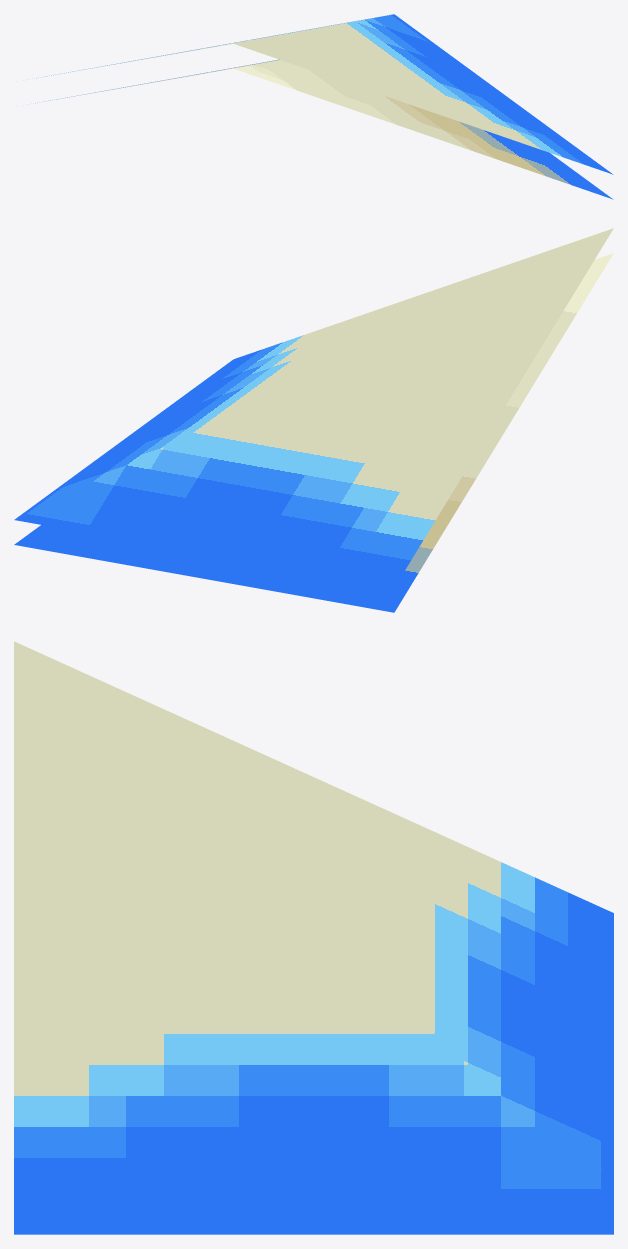
The model's file is rive-sable-native-05.glb.
3 renders of one model, top to bottom at view 1: azimuth 30°, elevation 25°; view 2: azimuth 150°, elevation 25°; view 3: azimuth 270°, elevation 25°, orthographic. The views are drawn at different scales.
Size of the model in its own units: 1 by 0.625 by 1.
2 materials, 2 textured.
